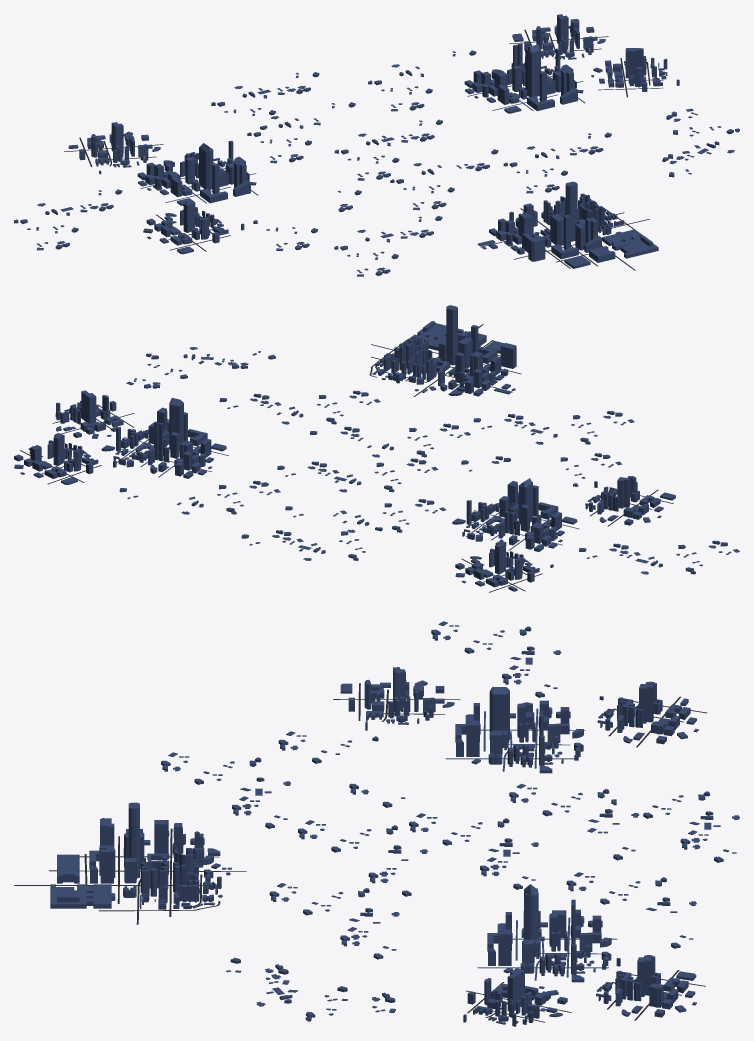
The model's file is city-gry.obj.
The picture shows the model from 3 angles, top to bottom: view 1: azimuth 30°, elevation 25°; view 2: azimuth 150°, elevation 25°; view 3: azimuth 270°, elevation 25°; orthographic projection. The views are drawn at different scales.
Parts seen in each view (by area): view 1: q415, q31, 平面.124, 平面.207, 平面.41, q398; view 2: q415, 平面.41, 平面.124, q31; view 3: q415, q31, 扫描_6, 平面.207, 平面.124, 平面.41.
Part boxes in pixels (x1,y1,x2,y2): q415: (14,50,739,276); q31: (602,229,658,258); 平面.124: (525,44,540,97); 平面.207: (199,143,213,189); 平面.41: (565,181,577,241); q398: (625,48,643,78); q415: (119,347,739,574); 平面.41: (446,305,457,365); 平面.124: (169,397,183,451); q31: (407,323,463,350); q415: (161,621,739,1021); q31: (50,884,115,908); 扫描_6: (14,829,246,924); 平面.207: (489,686,509,742); 平面.124: (524,884,538,939); 平面.41: (128,802,139,878).
Bounding box in the file's own units: 6780 × 560 × 5132.
